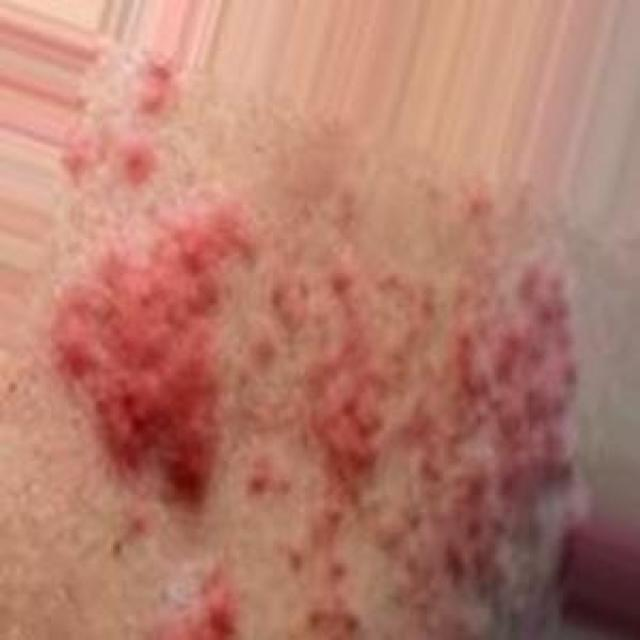Shingles: (59, 50, 582, 640)
